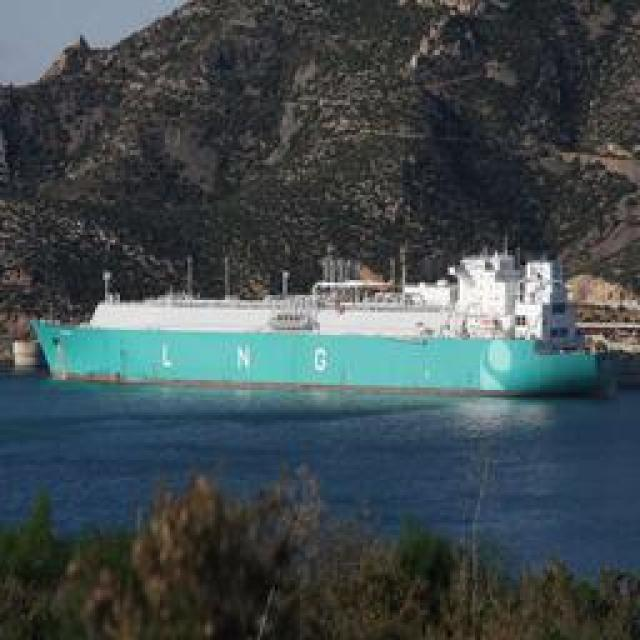CIV_Ship: (26, 304, 629, 394)
